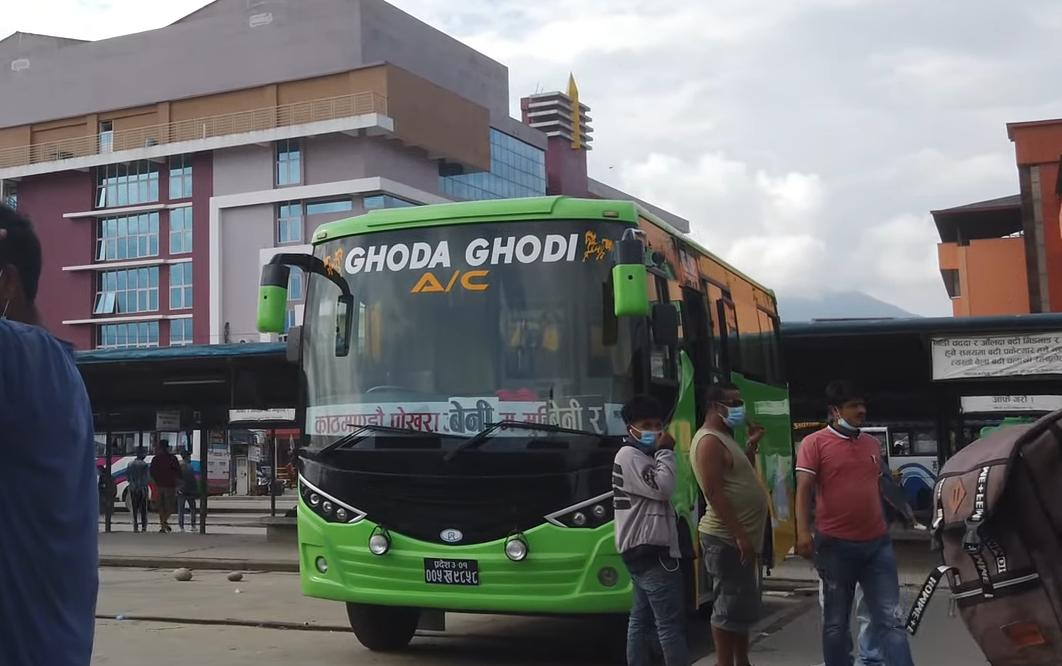bus: (243, 191, 797, 657)
